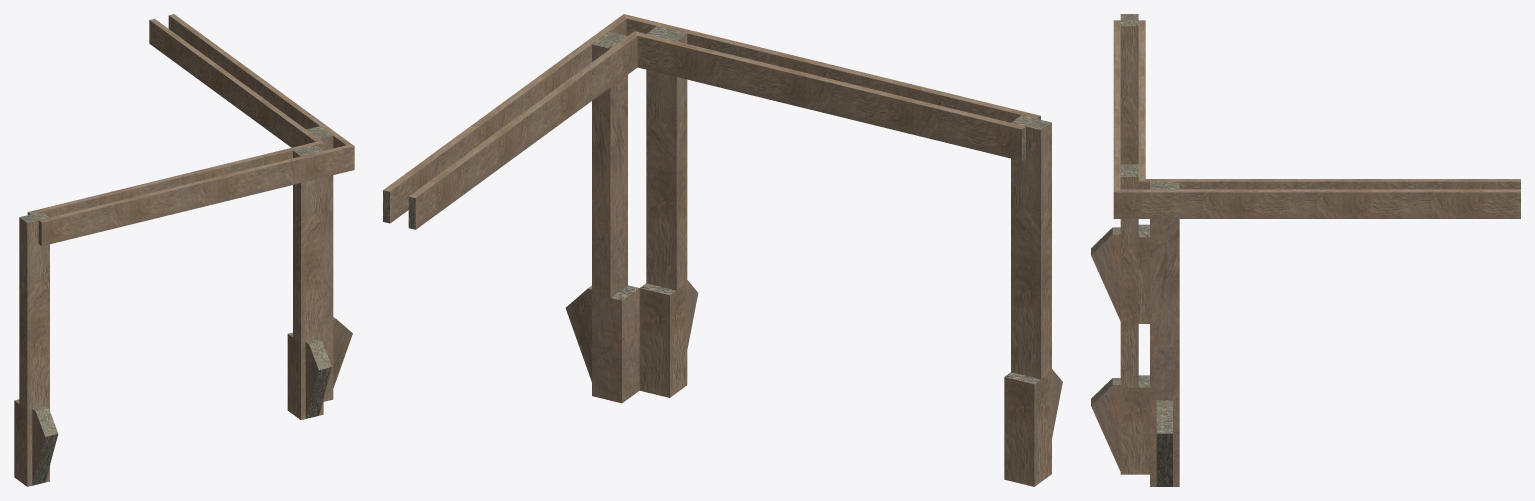
Rendered from WoodFloorHalfRailCrnerA.fbx.
3 renders of one model, left to right at view 1: azimuth 30°, elevation 25°; view 2: azimuth 150°, elevation 25°; view 3: azimuth 270°, elevation 25°, orthographic. The views are drawn at different scales.
Parts seen in each view (by area): view 1: WoodFloorHalfRailCrnerA; view 2: WoodFloorHalfRailCrnerA; view 3: WoodFloorHalfRailCrnerA.
Boxes of the visible parts, bbox=[...] form: WoodFloorHalfRailCrnerA: bbox=[14, 14, 354, 486]; WoodFloorHalfRailCrnerA: bbox=[383, 14, 1062, 486]; WoodFloorHalfRailCrnerA: bbox=[1091, 14, 1520, 486].
Size of the model in its own units: 235 by 174 by 227.
